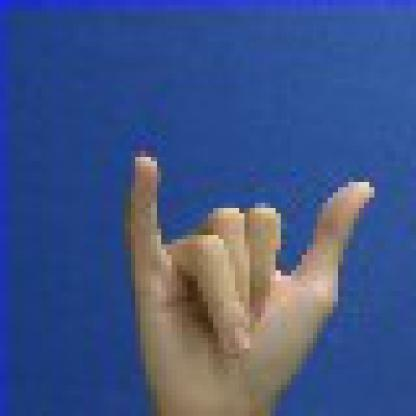six: (73, 99, 395, 411)
